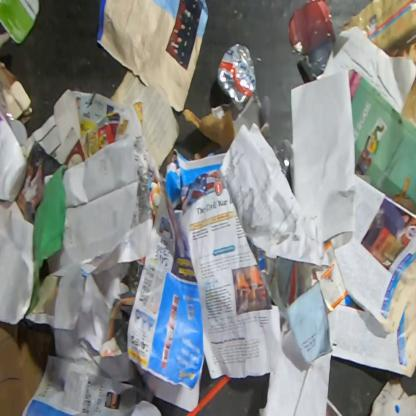cardboard: (0, 319, 57, 415), (51, 88, 86, 170), (182, 107, 235, 161), (0, 59, 34, 127), (370, 374, 415, 415)
metal: (216, 41, 258, 112), (275, 141, 291, 183)
rigid_plastic: (0, 110, 28, 203)
soft_plastic: (0, 85, 13, 131)
